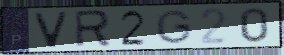0: (238, 6, 272, 45)
2: (199, 7, 230, 46), (118, 9, 148, 47)
G: (154, 9, 193, 45)
R: (72, 9, 112, 49)
V: (32, 10, 70, 49)
